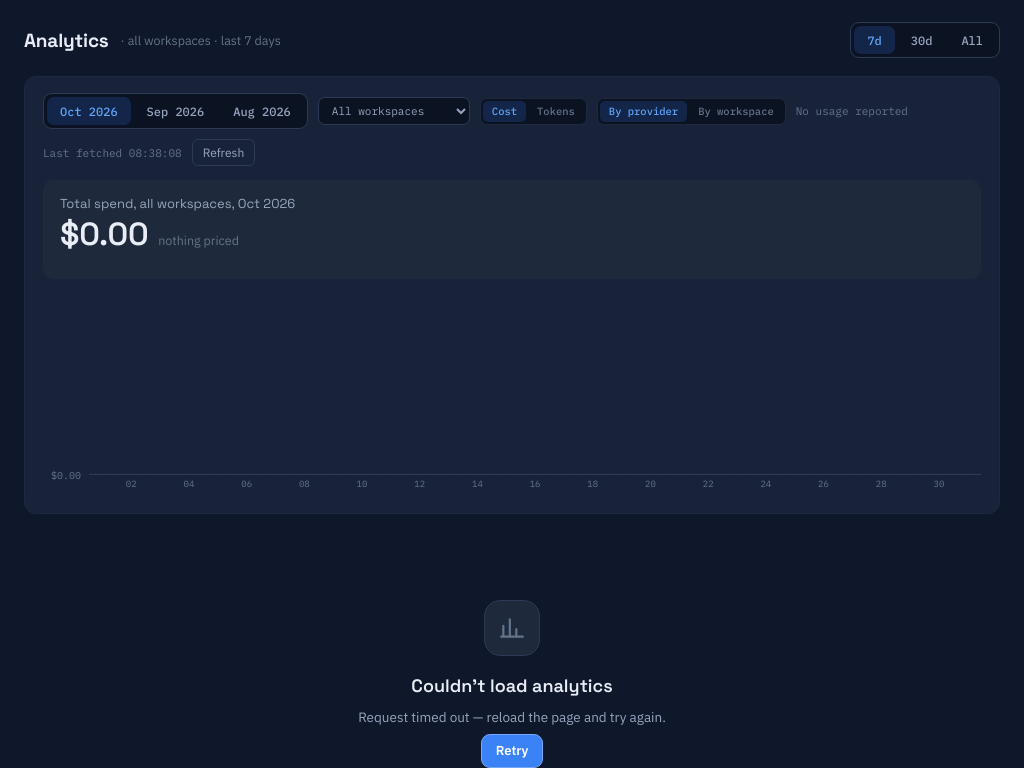
Test: AnalyticsView › surfaces a failed load with a working Retry instead of an endless "Loading…"
Expected: the heading "Couldn't load analytics" is shown, [411,674,613,697]
Expected: the text "Request timed out — reload the page and try again." is shown, [358,707,666,728]
Note: Retry re-fetches and renders the data
Step 1. Click the button "Retry" → (512, 751), box [481,734,543,767]
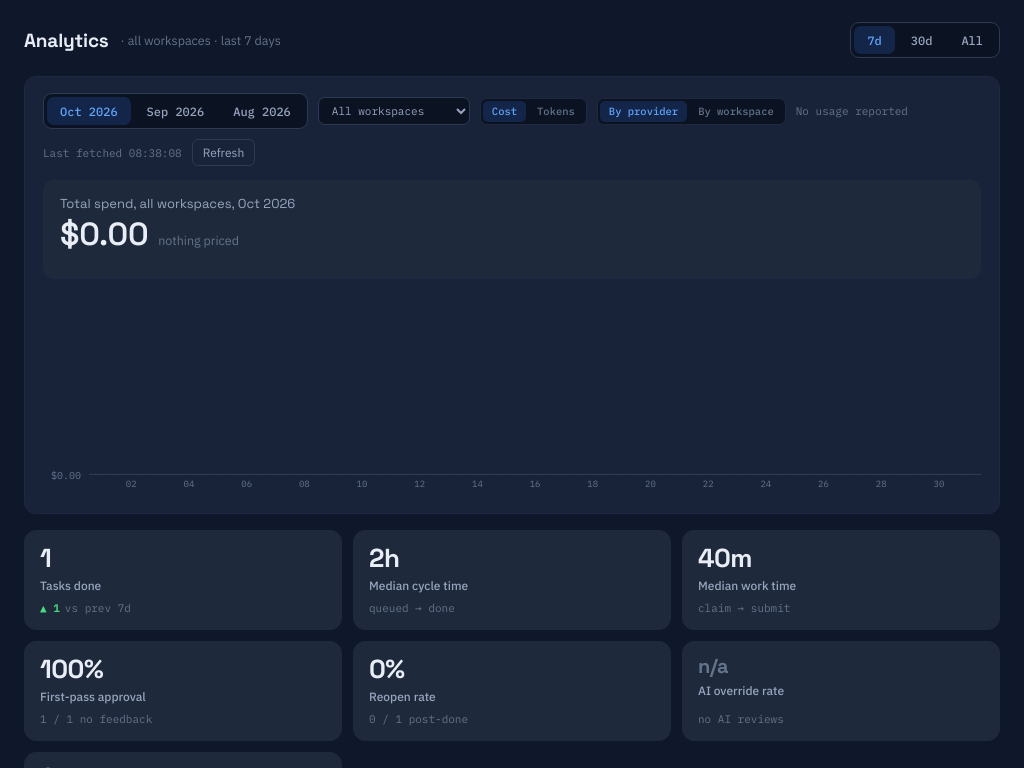
Result: the text "Tasks done" is shown at [40,578,101,593]
Result: the heading "Couldn't load analytics" is gone
